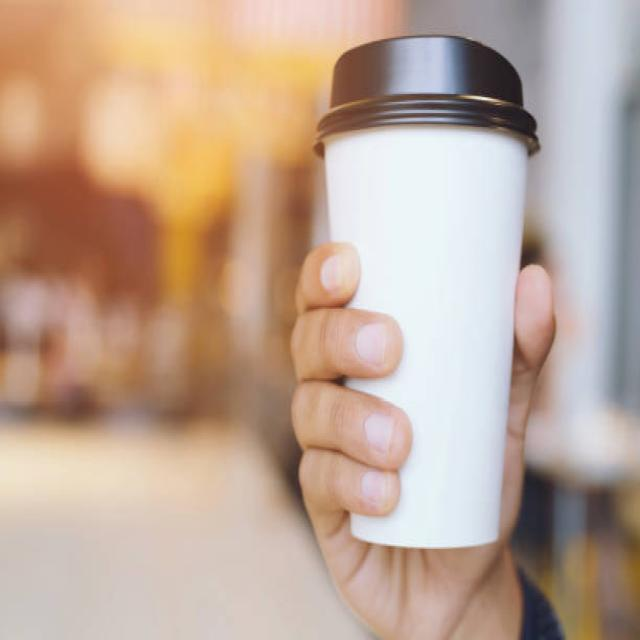cup: (313, 31, 544, 552)
